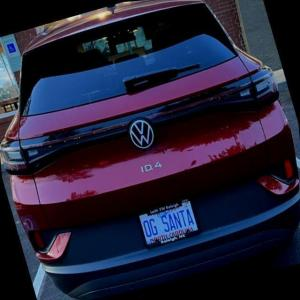Plate: (136, 196, 201, 248)
